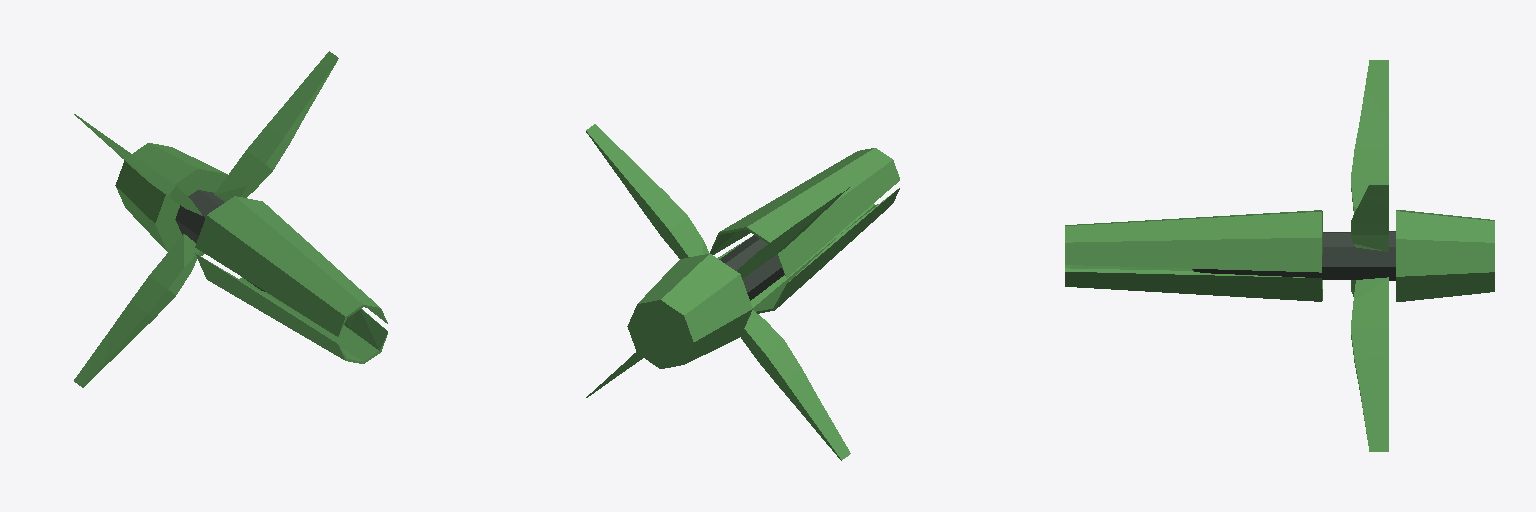
3 views of the same model, side by side, from view 1: azimuth 30°, elevation 25°; view 2: azimuth 150°, elevation 25°; view 3: azimuth 270°, elevation 25° (orthographic).
Parts seen in each view (by area): view 1: gunner_mesh gunner_model_grp; view 2: gunner_mesh gunner_model_grp; view 3: gunner_mesh gunner_model_grp.
Part boxes in pixels (x1,y1,x2,y2): gunner_mesh gunner_model_grp: (74, 51, 387, 387); gunner_mesh gunner_model_grp: (586, 124, 899, 460); gunner_mesh gunner_model_grp: (1065, 60, 1494, 451).
Size of the model in its own units: 15.88 by 15.88 by 23.04.
1 materials, 1 textured.